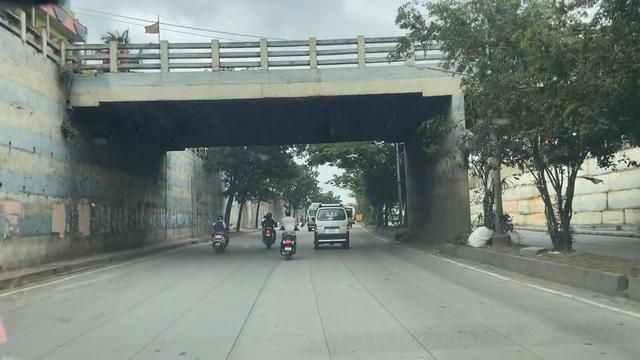LMV: (312, 202, 355, 250), (282, 199, 303, 261)
